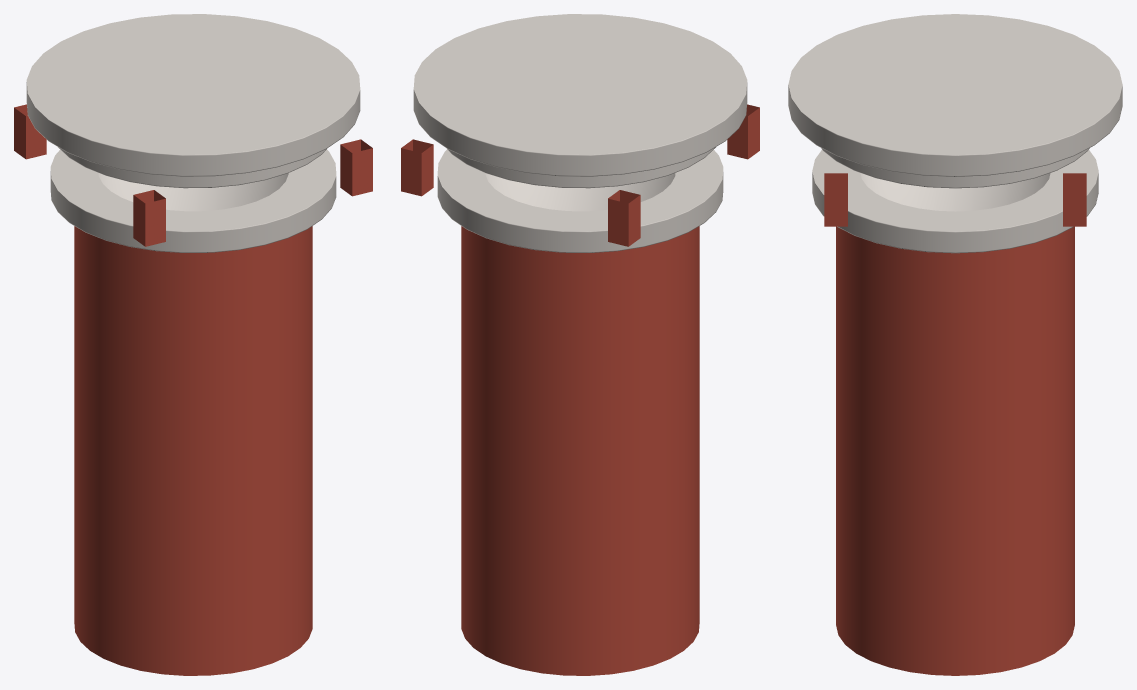
Rendered from 3e obstakel.fbx.
3 views of the same model, side by side, from view 1: azimuth 30°, elevation 25°; view 2: azimuth 150°, elevation 25°; view 3: azimuth 270°, elevation 25° (orthographic).
Visible parts, largest first — view 1: Cube; view 2: Cube; view 3: Cube.
Boxes of the visible parts, <box> form: Cube: <box>14,14,372,675</box>; Cube: <box>401,14,759,675</box>; Cube: <box>788,14,1122,675</box>.
Size of the model in its own units: 70 by 125 by 70.
